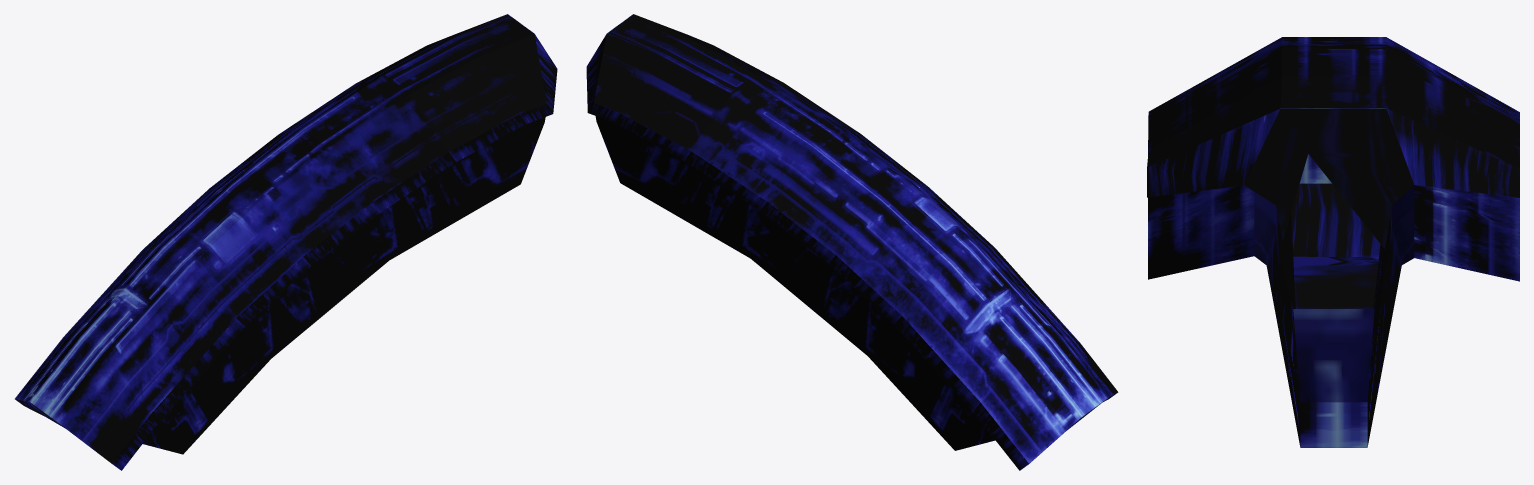
File: sin_mesh_left.dae
3 renders of one model, left to right at view 1: azimuth 30°, elevation 25°; view 2: azimuth 150°, elevation 25°; view 3: azimuth 270°, elevation 25°, orthographic. The views are drawn at different scales.
Visible parts, largest first — view 1: MULT[Root_mesh]_LOD[0]; view 2: MULT[Root_mesh]_LOD[0]; view 3: MULT[Root_mesh]_LOD[0].
Boxes of the visible parts, x1,y1,x2,y2 form: MULT[Root_mesh]_LOD[0]: (15,14,557,470); MULT[Root_mesh]_LOD[0]: (586,14,1118,470); MULT[Root_mesh]_LOD[0]: (1147,37,1519,447).
Size of the model in its own units: 2080 by 1363 by 683.
1 material, 1 textured.
